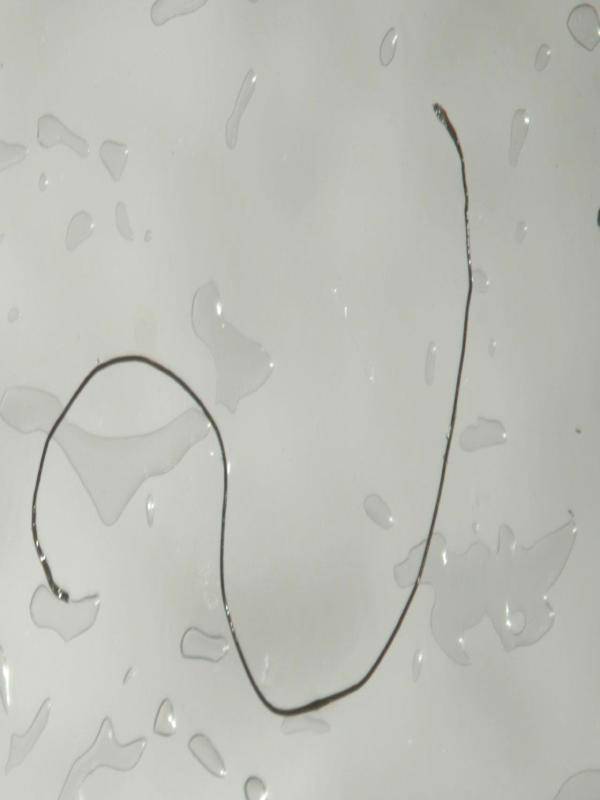microplastic: (29, 103, 476, 721)
